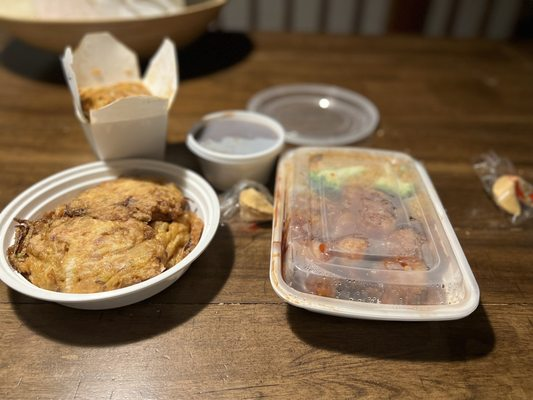pizza: (185, 110, 287, 191)
salad: (219, 179, 276, 223)
sushi: (268, 146, 480, 320), (0, 157, 221, 311), (0, 0, 230, 80), (60, 32, 180, 161), (245, 83, 380, 148), (185, 110, 287, 191)
